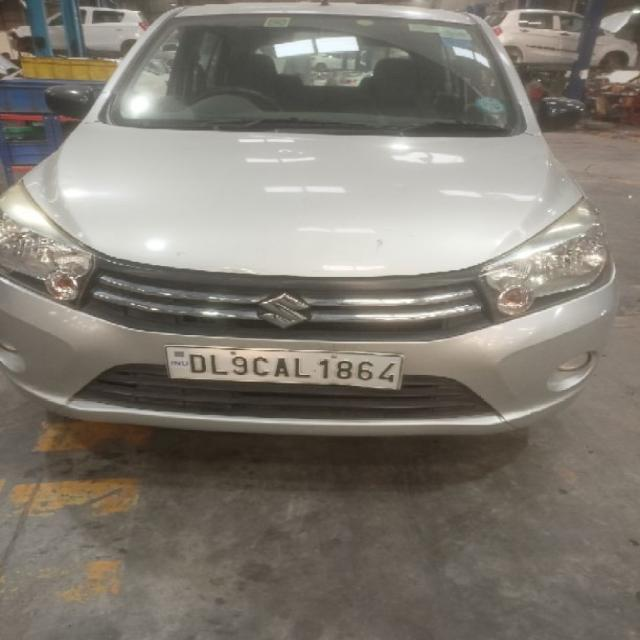license_plate: (163, 344, 404, 391)
